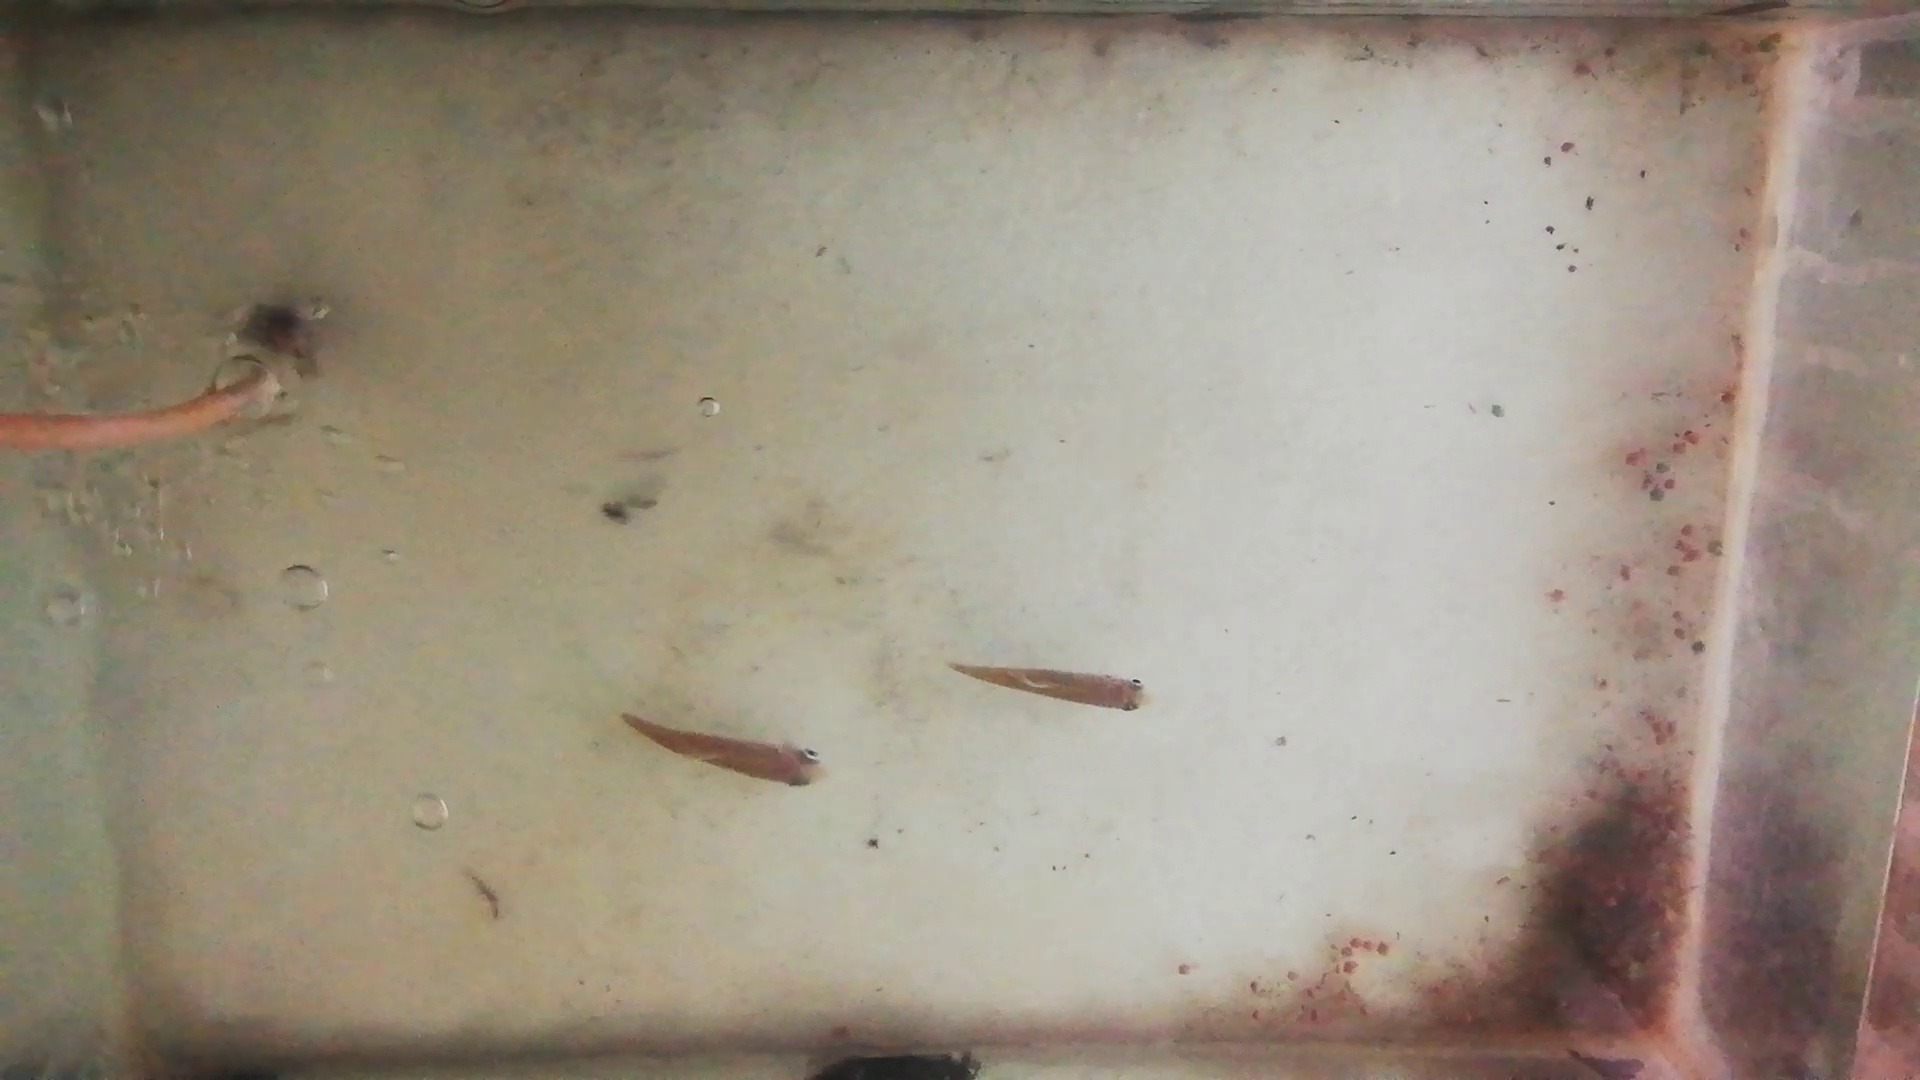fish: (615, 705, 825, 789), (943, 659, 1151, 713)
